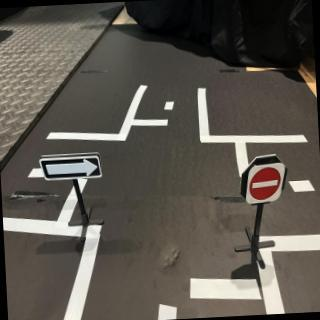sign_noentry: (245, 164, 288, 205)
sign_oneway_right: (38, 151, 104, 182)
